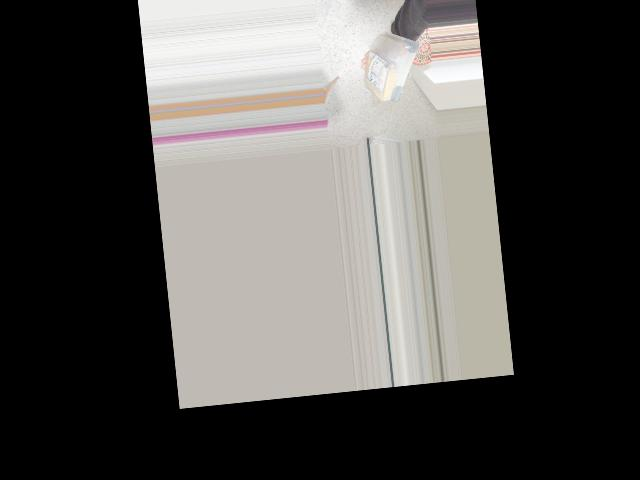cheese: (356, 18, 423, 108)
